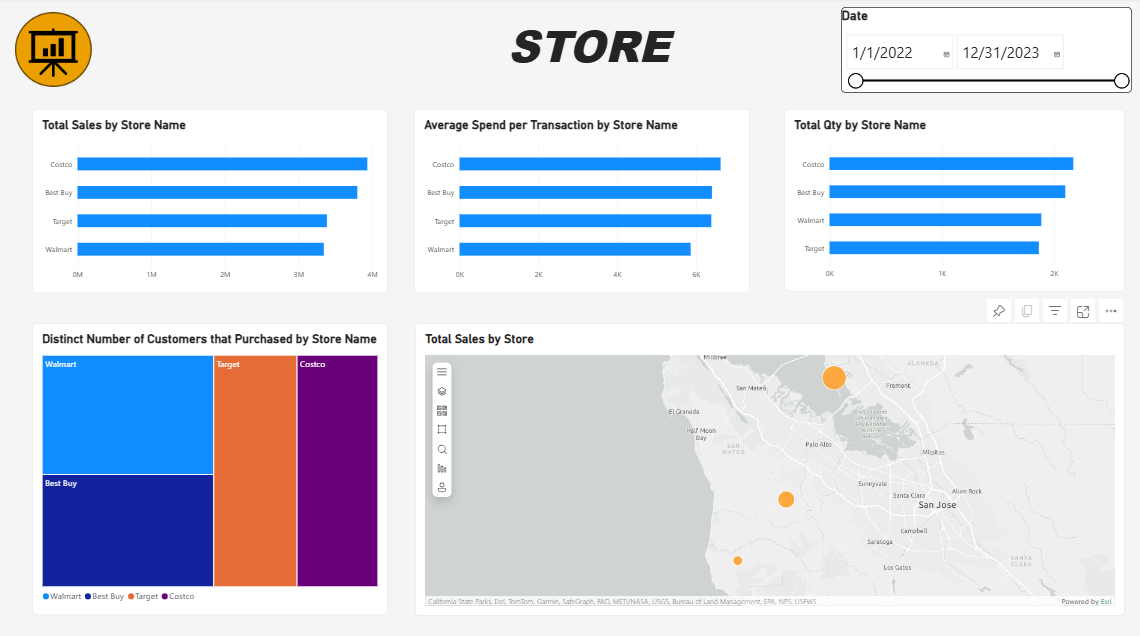

The page's visual inventory and layout, read from the dashboard file:
{"tool":"powerbi","page":{"name":"Store","canvas":[1920,1080],"ordinal":6},"visuals":[{"type":"image","box":[21.7,21.7,147.5,125],"z":0},{"type":"slicer","title":"Date","fields":{"Values":["Date.Date"]},"box":[1407.5,12.5,485,142.5],"z":1000},{"type":"textbox","box":[733.3,26.7,580,116.7],"z":2000},{"type":"clusteredBarChart","fields":{"Category":["Stores.Store Name"],"Y":["_Measures.Total Sales"]},"box":[60,183.3,593.3,306.7],"z":3000},{"type":"clusteredBarChart","fields":{"Category":["Stores.Store Name"],"Y":["_Measures.Average Spend per Transaction"]},"box":[696.7,183.3,560,306.7],"z":5000},{"type":"treemap","fields":{"Group":["Stores.Store Name"],"Values":["_Measures.Distinct Number of Customers that Purchased"]},"box":[60,540,593.3,486.7],"z":7000},{"type":"clusteredBarChart","fields":{"Category":["Stores.Store Name"],"Y":["_Measures.Total Qty"]},"box":[1312.5,182.5,568,304],"z":7001},{"type":"esriVisual","title":"Total Sales by Store","fields":{"Latitude":["Stores.Store Latitude"],"Longitude":["Stores.Store Longitude"],"Size":["_Measures.Total Sales"]},"box":[697.5,540,1182.5,487.5],"z":7002}]}

Visuals, with their boxes in screenshot pixels (x1, y1, x2, y2), scaled from the page's 1920x1080 canvas onto the 1140x636 screenshot:
image: box=[13, 13, 100, 86]
"Date" slicer: box=[836, 7, 1124, 91]
textbox: box=[435, 16, 780, 84]
clusteredBarChart - Stores.Store Name x _Measures.Total Sales: box=[36, 108, 388, 289]
clusteredBarChart - Stores.Store Name x _Measures.Average Spend per Transaction: box=[414, 108, 746, 289]
treemap - Stores.Store Name x _Measures.Distinct Number of Customers that Purchased: box=[36, 318, 388, 605]
clusteredBarChart - Stores.Store Name x _Measures.Total Qty: box=[779, 107, 1117, 286]
"Total Sales by Store" esriVisual: box=[414, 318, 1116, 605]
